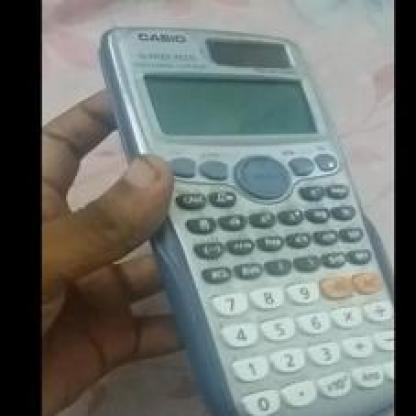calculator: (91, 14, 402, 415)
